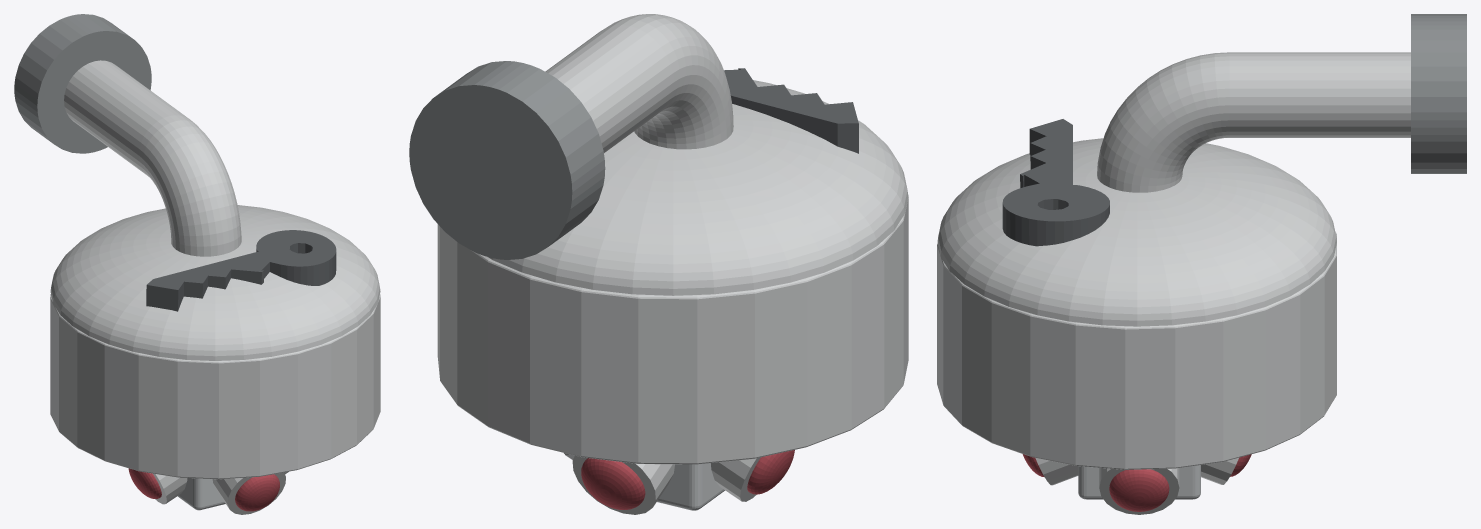
Rendered from Camera - Multi - 4 lens key.glb.
3 renders of one model, left to right at view 1: azimuth 30°, elevation 25°; view 2: azimuth 150°, elevation 25°; view 3: azimuth 270°, elevation 25°, orthographic. The views are drawn at different scales.
Visible parts, largest first — view 1: Mesh_Mesh_head_geo.001_lambert2SG.001; view 2: Mesh_Mesh_head_geo.001_lambert2SG.001; view 3: Mesh_Mesh_head_geo.001_lambert2SG.001.
Part boxes in pixels (x1=…): Mesh_Mesh_head_geo.001_lambert2SG.001: x1=14, y1=14, x2=380, y2=514; Mesh_Mesh_head_geo.001_lambert2SG.001: x1=409, y1=14, x2=908, y2=514; Mesh_Mesh_head_geo.001_lambert2SG.001: x1=937, y1=14, x2=1466, y2=514.
Size of the model in its own units: 127 by 159 by 168.
